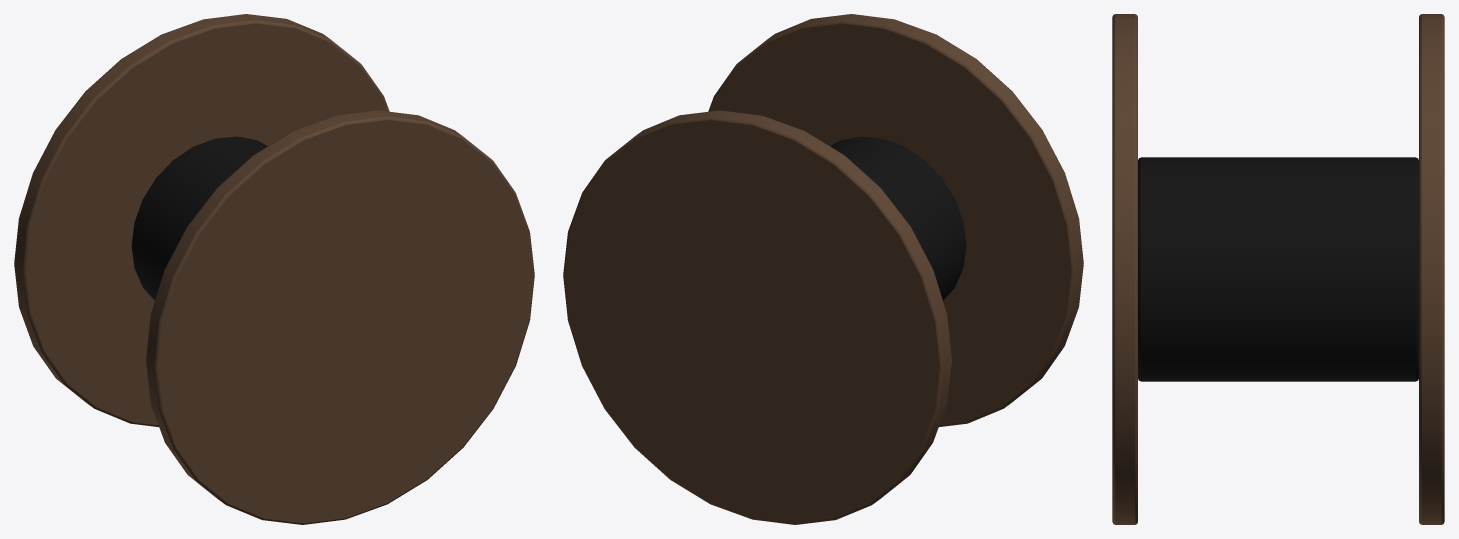
File: SM_F_CableReel.fbx
The picture shows the model from 3 angles, left to right: view 1: azimuth 30°, elevation 25°; view 2: azimuth 150°, elevation 25°; view 3: azimuth 270°, elevation 25°; orthographic projection. The views are drawn at different scales.
Visible parts, largest first — view 1: SM_F_CableReel__Body; view 2: SM_F_CableReel__Body; view 3: SM_F_CableReel__Body.
Part boxes in pixels (x1=…): SM_F_CableReel__Body: x1=14, y1=14, x2=534, y2=524; SM_F_CableReel__Body: x1=563, y1=14, x2=1083, y2=524; SM_F_CableReel__Body: x1=1112, y1=14, x2=1444, y2=524.
Bounding box in the file's own units: 1 × 1 × 0.65.
